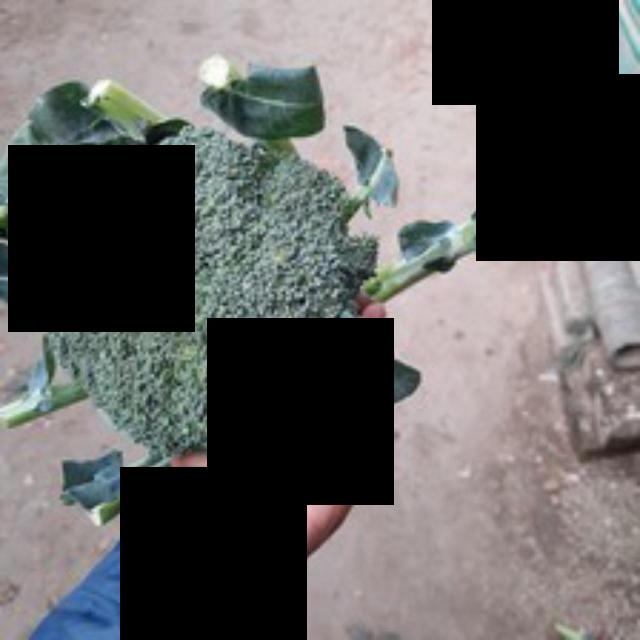broccoli: (66, 93, 364, 471)
